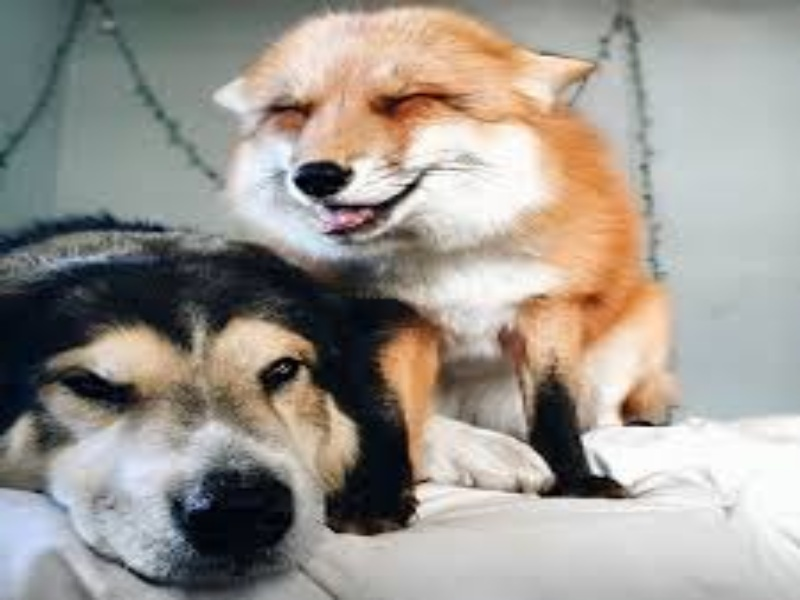dog: (4, 213, 444, 597), (213, 7, 648, 287)
